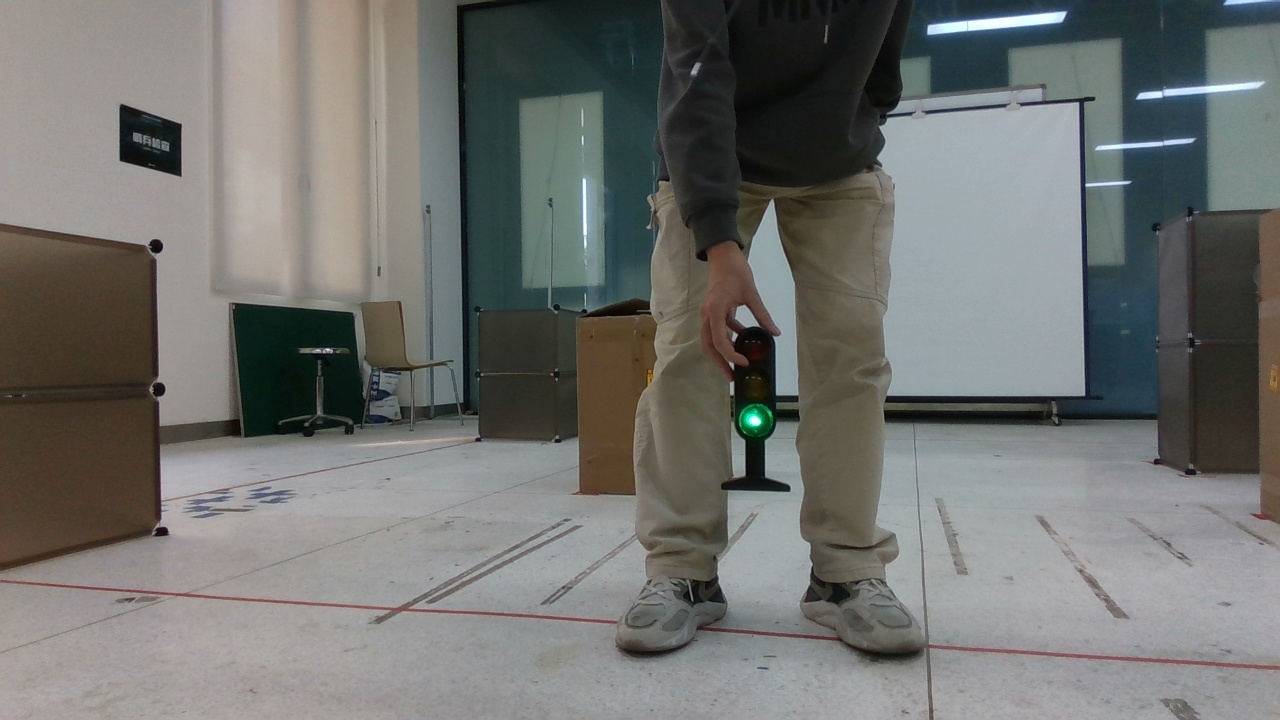green_light: (711, 312, 800, 497)
